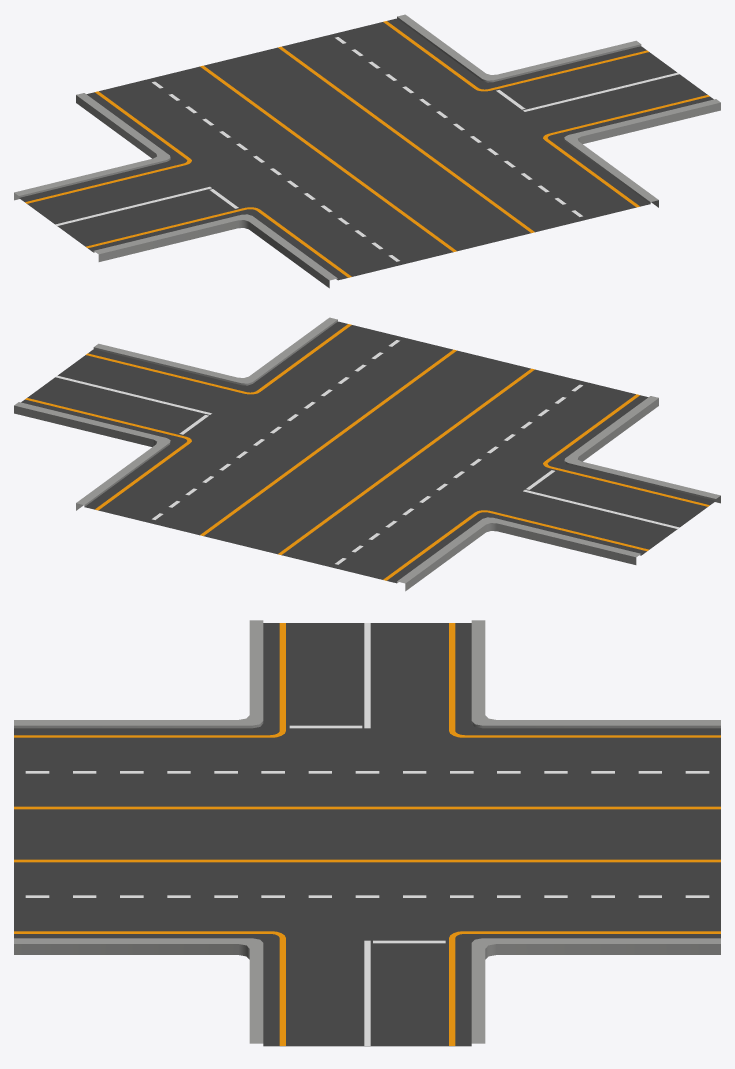
Rendered from Road_A_2L_1_5.fbx.
3 views of the same model, one above another, from view 1: azimuth 30°, elevation 25°; view 2: azimuth 150°, elevation 25°; view 3: azimuth 270°, elevation 25° (orthographic). The views are drawn at different scales.
Visible parts, largest first — view 1: Road_A_2L_1_5; view 2: Road_A_2L_1_5; view 3: Road_A_2L_1_5.
Boxes of the visible parts, x1,y1,x2,y2 form: Road_A_2L_1_5: (14,14,720,288); Road_A_2L_1_5: (14,317,720,591); Road_A_2L_1_5: (14,620,720,1046).
Bounding box in the file's own units: 3400 × 41.48 × 2400.
